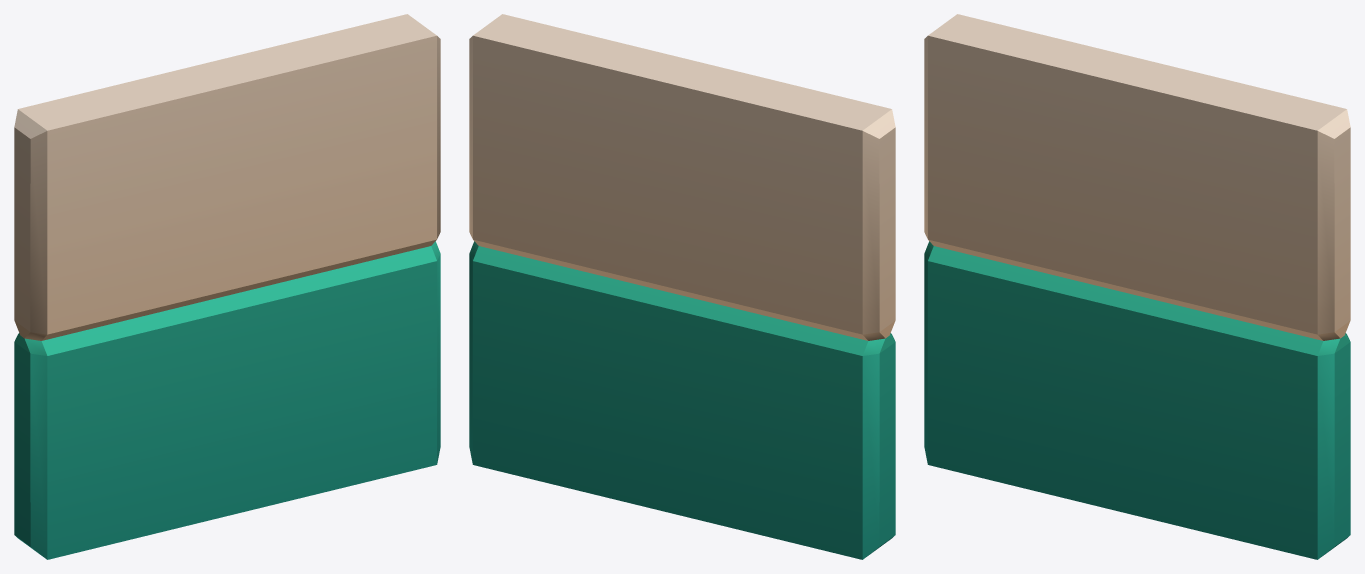
The model's file is wall-panel.glb.
3 renders of one model, left to right at view 1: azimuth 30°, elevation 25°; view 2: azimuth 150°, elevation 25°; view 3: azimuth 330°, elevation 25°, orthographic.
Visible parts, largest first — view 1: wall; view 2: wall; view 3: wall.
Part boxes in pixels (left/top/right/bottom): wall: left=14, top=14, right=440, bottom=559; wall: left=469, top=14, right=895, bottom=559; wall: left=924, top=14, right=1350, bottom=559.
Size of the model in its own units: 4 by 4 by 0.5.
1 material, 1 textured.
